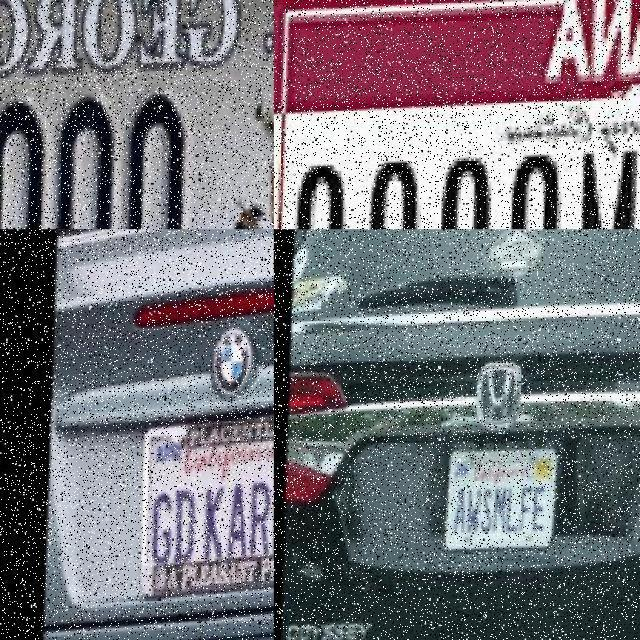LicensePlate: (287, 129, 640, 229), (0, 86, 225, 229), (140, 420, 274, 603), (448, 445, 561, 561)
